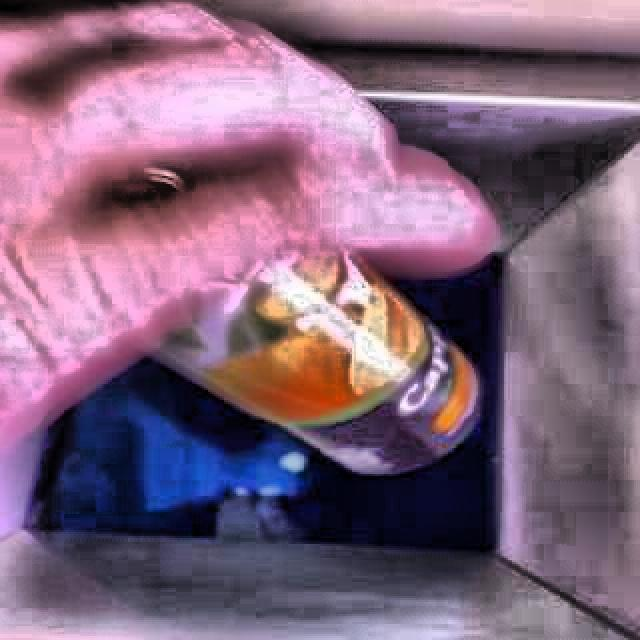metal: (156, 254, 482, 475)
